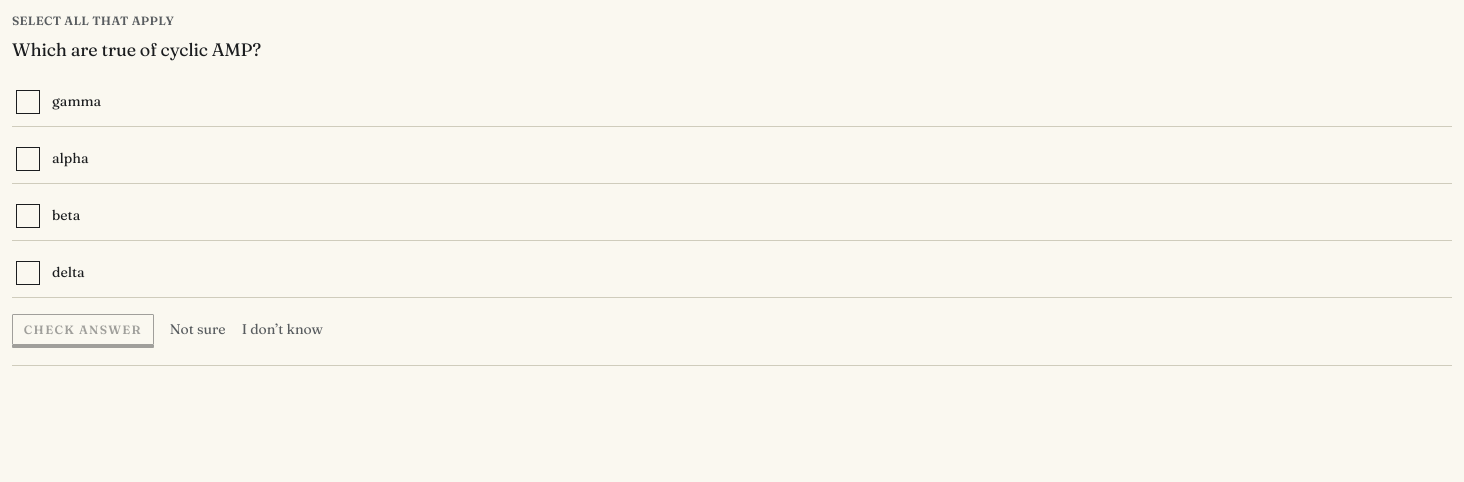
Test: MultiCard › lets you say you do not know: a miss, the true ones shown, nothing ticked
This screenshot has width=1464, height=482.
What coordinates should you click on to do the following:
click the button "I don’t know"
I would click on:
 (282, 330)
Its box is x1=242 y1=319 x2=323 y2=341.
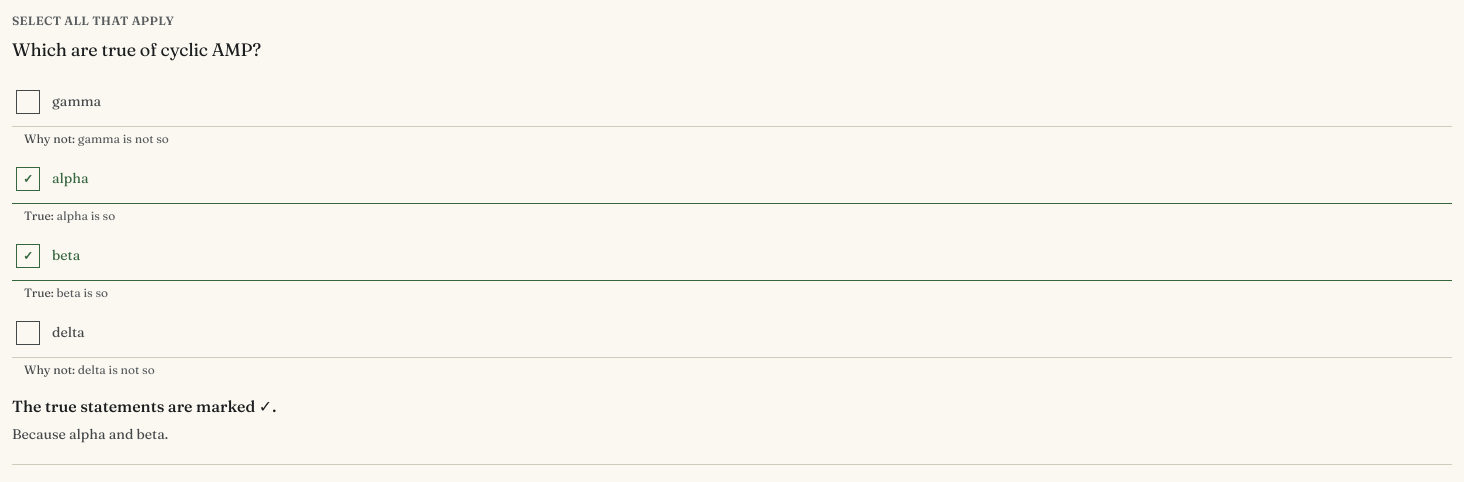
Result: the text "The true statements are marked ✓." is shown at x1=12 y1=396 x2=276 y2=416
Result: the text "Because alpha and beta." is shown at x1=12 y1=425 x2=168 y2=443
